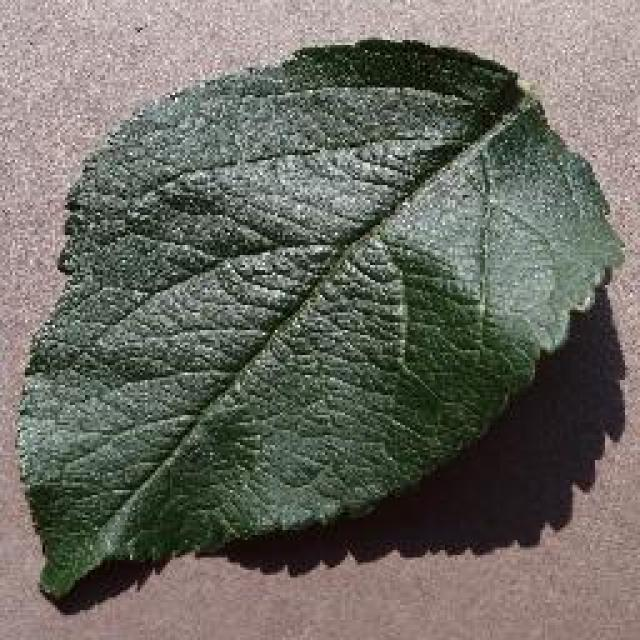apple scab disease: (13, 32, 625, 602)
